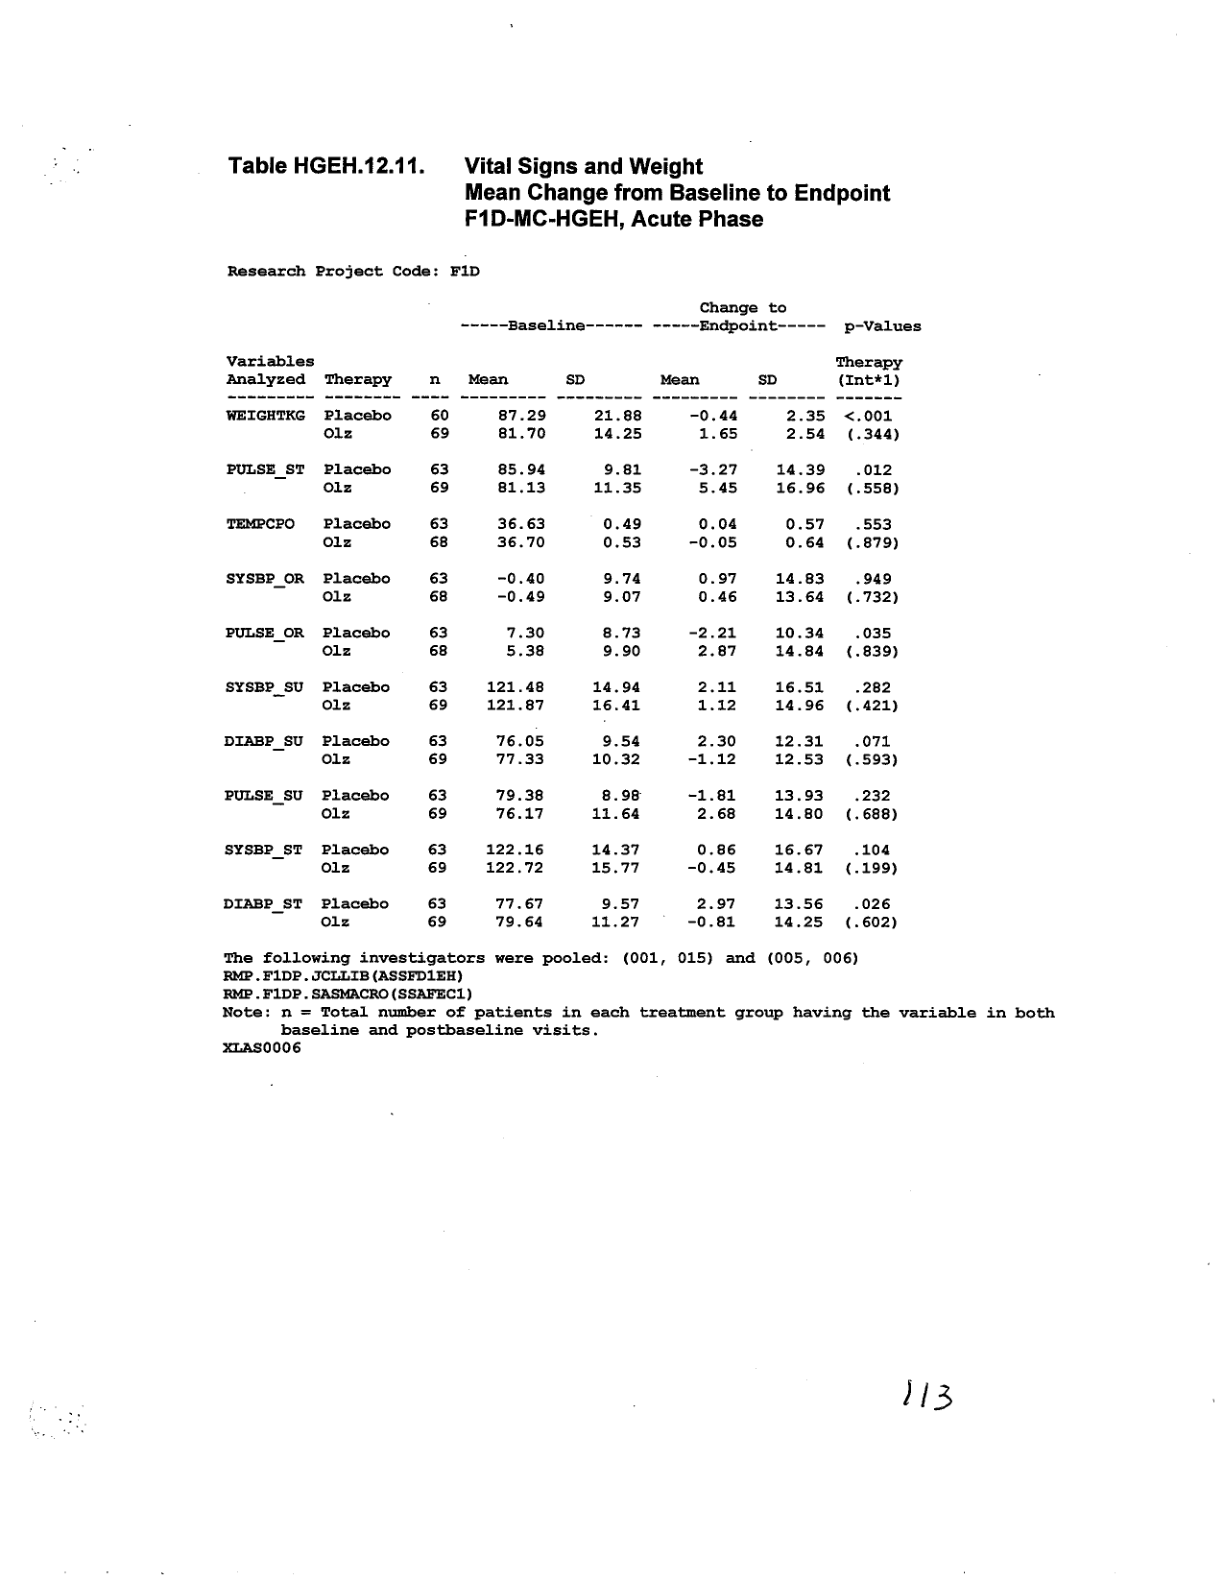nolines: (220, 299, 926, 936)
